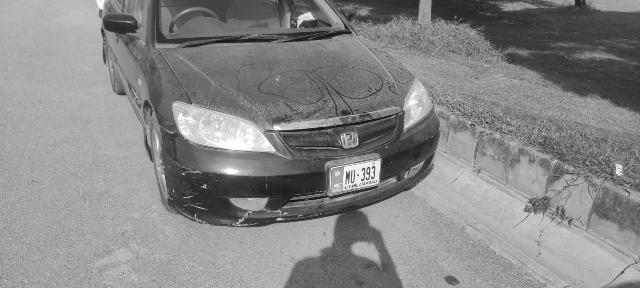Number: (344, 164, 377, 186)
